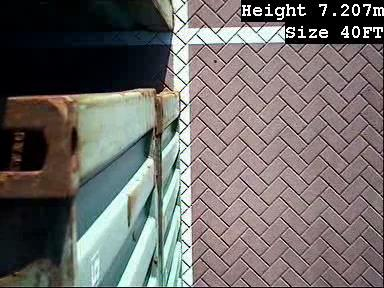groundmarker_2: (25, 39, 123, 109)
